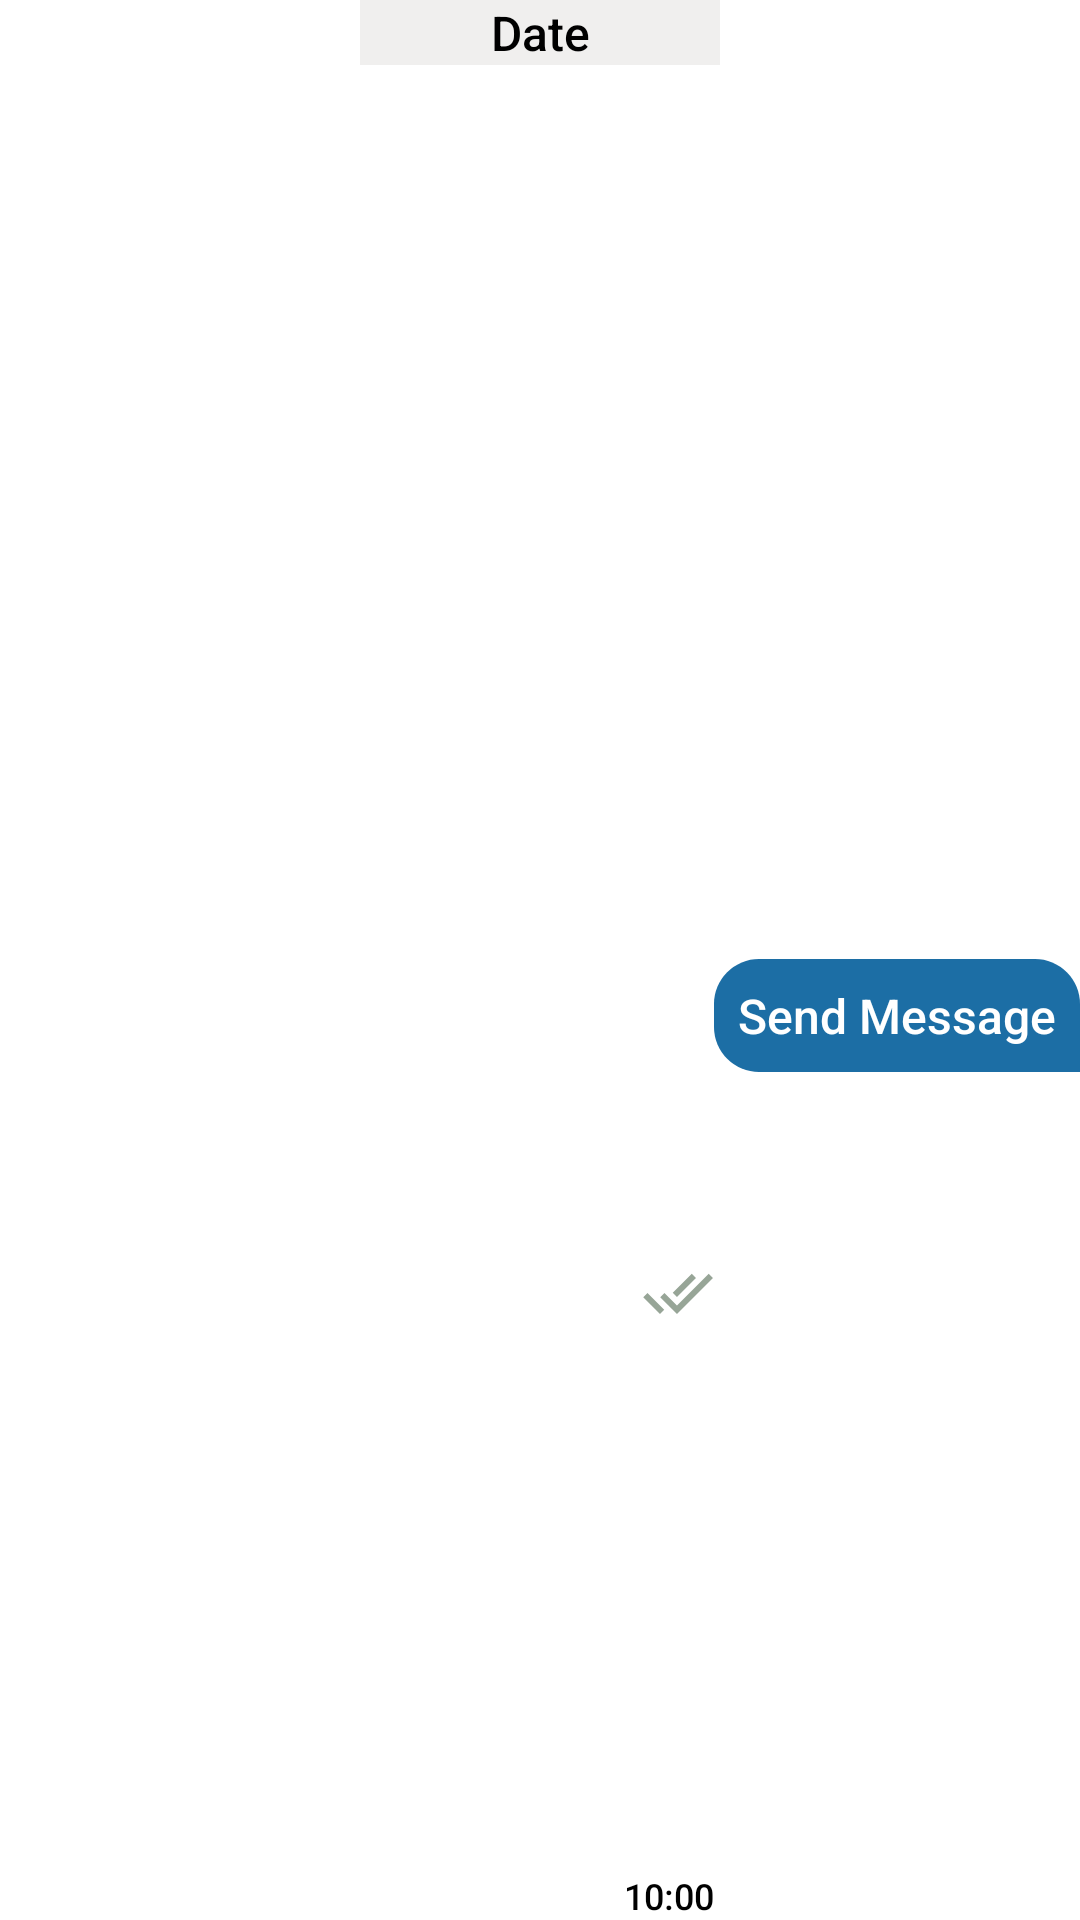

Point at icon controls on the screen. Image size 1080×1920, points as point (x, y).
done all: point (678, 1294)
